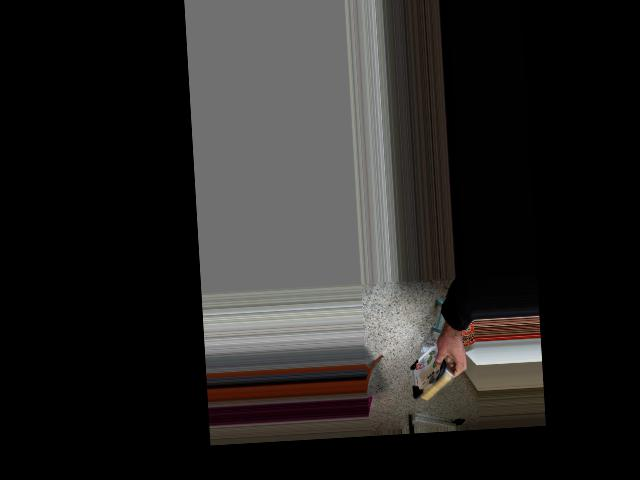cheese: (392, 346, 473, 415)
